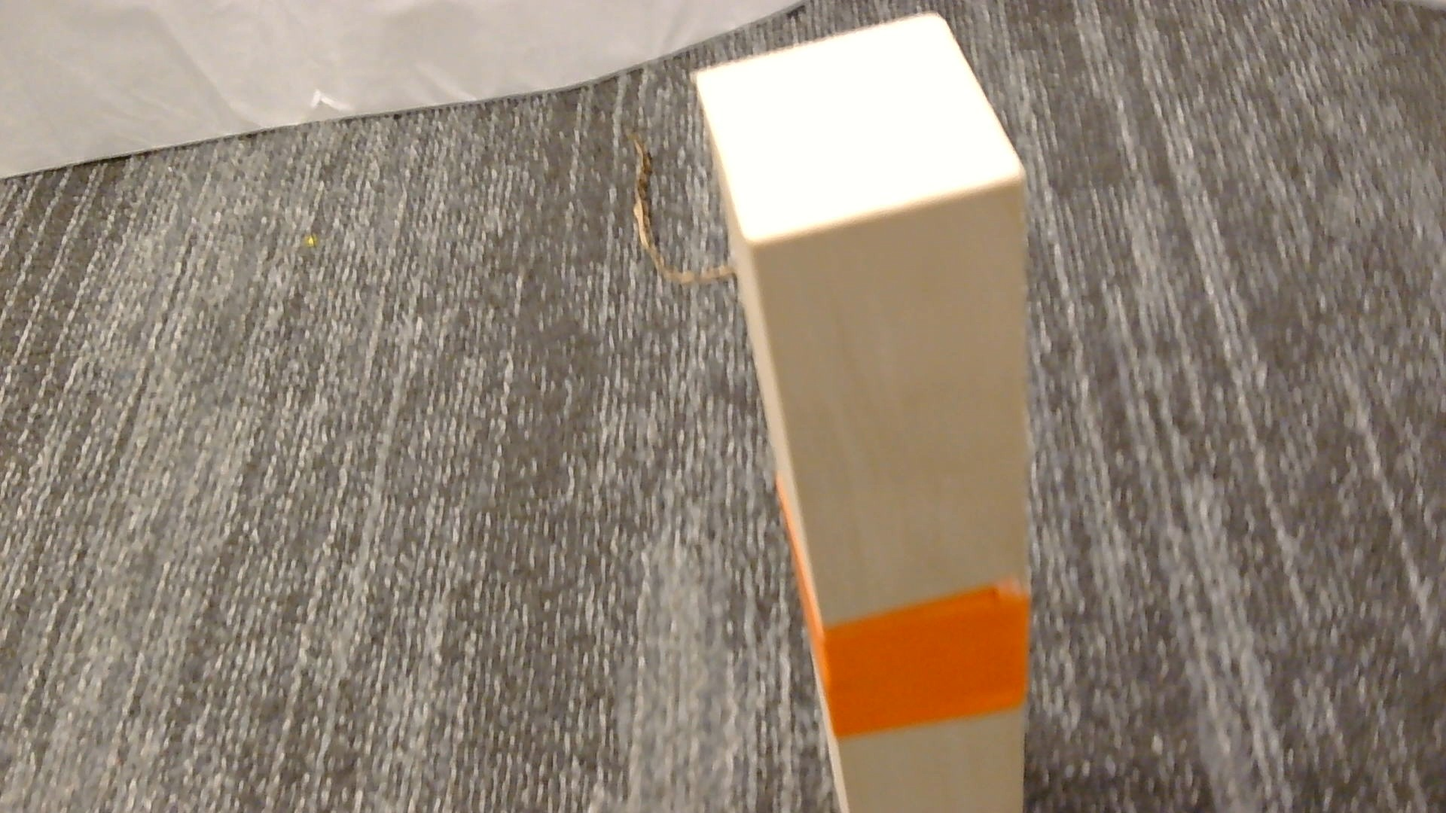Wooden Block: (696, 14, 1030, 812)
